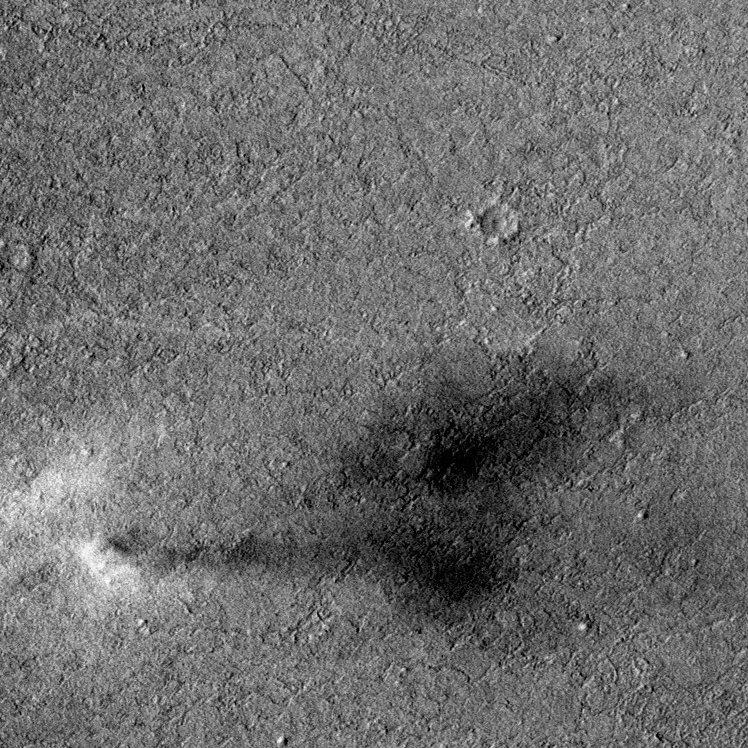dust_devil: (14, 362, 623, 637)
